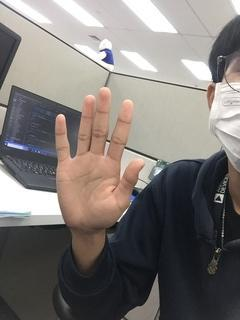hand: (54, 86, 148, 232)
